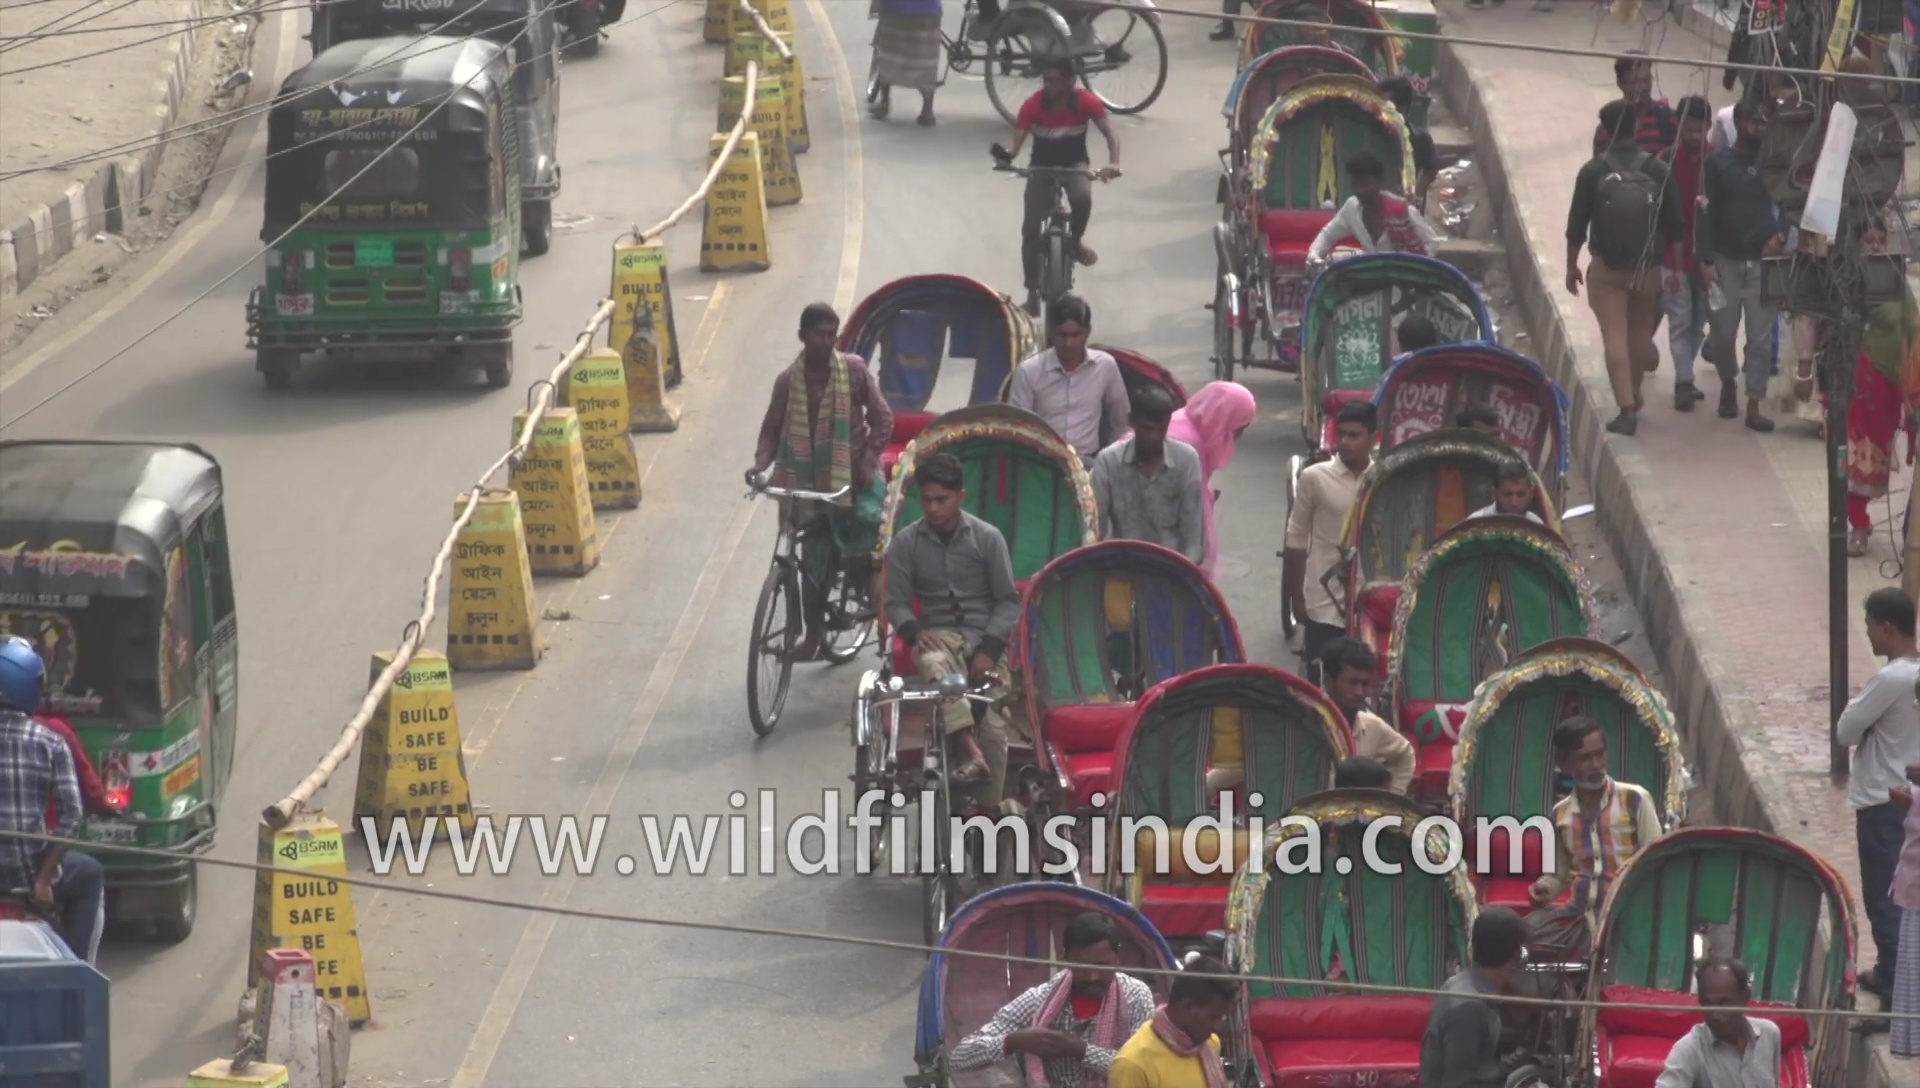5: (746, 265, 1023, 741), (847, 410, 1085, 857)
bus: (260, 36, 521, 401)
